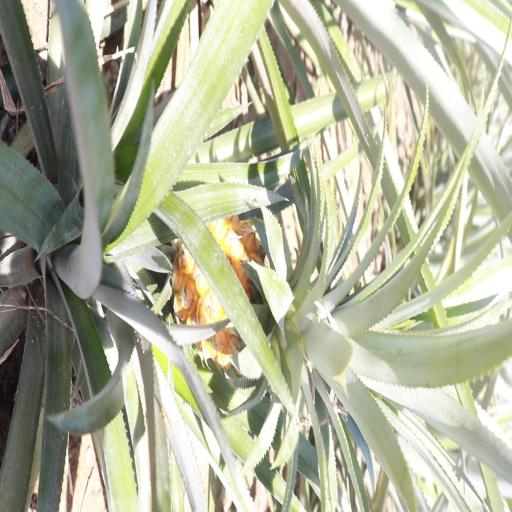Pineapple - v8 v1: (174, 212, 401, 380)
